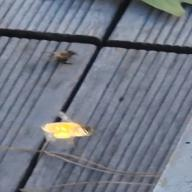Bee: (31, 114, 106, 142)
